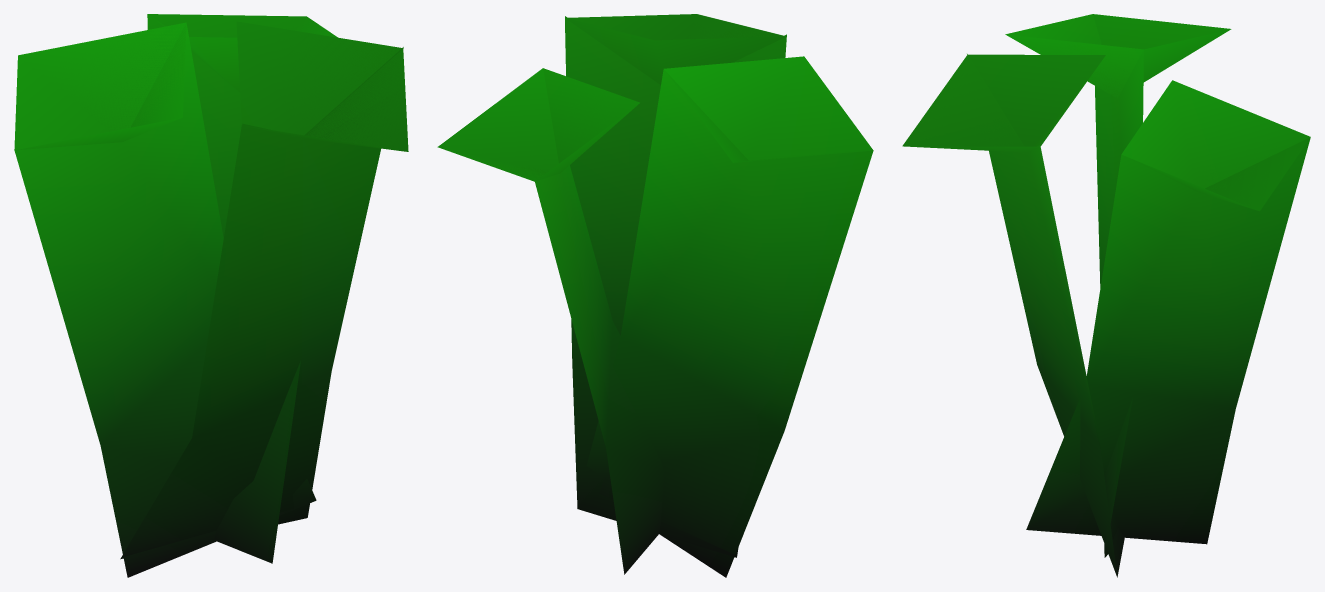
File: TEM_Flowers_Patch_02A.fbx
The picture shows the model from 3 angles, left to right: view 1: azimuth 30°, elevation 25°; view 2: azimuth 150°, elevation 25°; view 3: azimuth 270°, elevation 25°; orthographic projection. The views are drawn at different scales.
Visible parts, largest first — view 1: TEM_Flowers_Patch_02A_LOD0; view 2: TEM_Flowers_Patch_02A_LOD0; view 3: TEM_Flowers_Patch_02A_LOD0.
Part boxes in pixels (x1,y1,x2,y2): TEM_Flowers_Patch_02A_LOD0: (14,14,408,577); TEM_Flowers_Patch_02A_LOD0: (437,14,873,577); TEM_Flowers_Patch_02A_LOD0: (902,14,1310,577).
Bounding box in the file's own units: 62.26 × 85.07 × 61.6.
